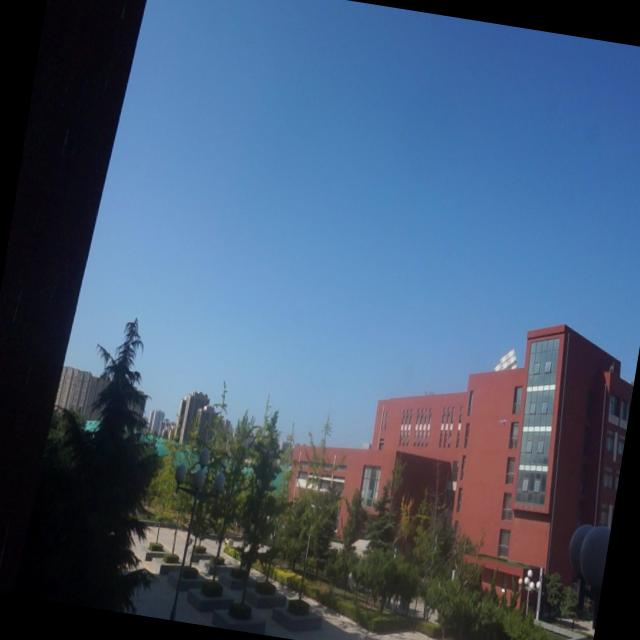drone: (493, 416, 511, 431)
